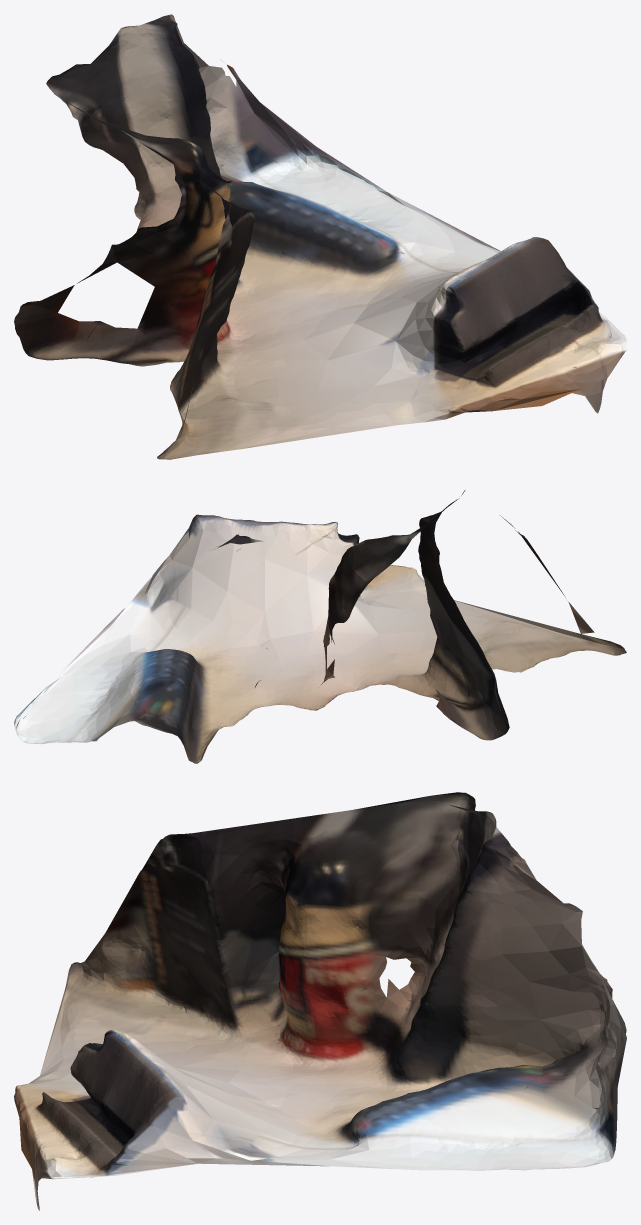
The model's file is Scaniverse_2026-03-09_134538.glb.
The picture shows the model from 3 angles, top to bottom: view 1: azimuth 30°, elevation 25°; view 2: azimuth 150°, elevation 25°; view 3: azimuth 270°, elevation 25°; orthographic projection. The views are drawn at different scales.
Parts seen in each view (by area): view 1: mesh; view 2: mesh; view 3: mesh.
Boxes of the visible parts, bbox=[...] form: mesh: bbox=[14, 14, 626, 459]; mesh: bbox=[14, 490, 626, 763]; mesh: bbox=[14, 792, 626, 1210].
Size of the model in its own units: 0.3924 by 0.2228 by 0.4459.
Materials: 1 (1 with a texture image).
